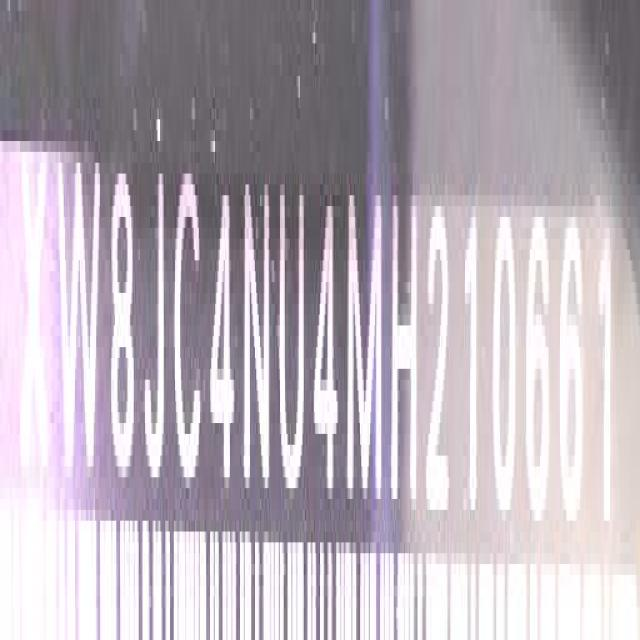0: (492, 206, 522, 529)
1: (597, 220, 620, 542), (464, 197, 483, 528)
2: (427, 197, 454, 523)
4: (208, 168, 237, 498), (313, 182, 342, 510)
6: (558, 207, 585, 532), (526, 205, 552, 530)
8: (106, 173, 138, 502)
C: (173, 173, 206, 506)
H: (391, 185, 422, 515)
J: (145, 166, 169, 490)
M: (344, 185, 385, 510)
N: (244, 171, 274, 503)
U: (279, 176, 306, 507)
W: (60, 149, 102, 485)
X: (21, 149, 50, 494)
